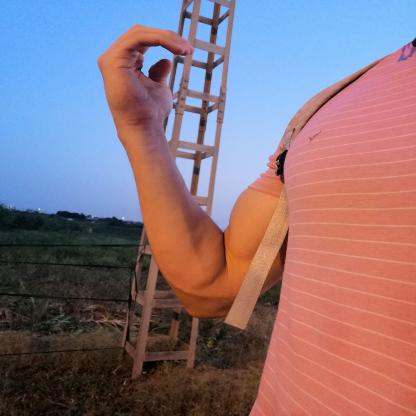JEEM: (84, 17, 206, 134)
